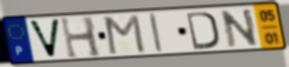D: (184, 10, 220, 51)
H: (58, 15, 104, 60)
I: (147, 12, 165, 55)
M: (103, 13, 148, 56)
N: (218, 7, 260, 49)
V: (26, 18, 63, 60)
